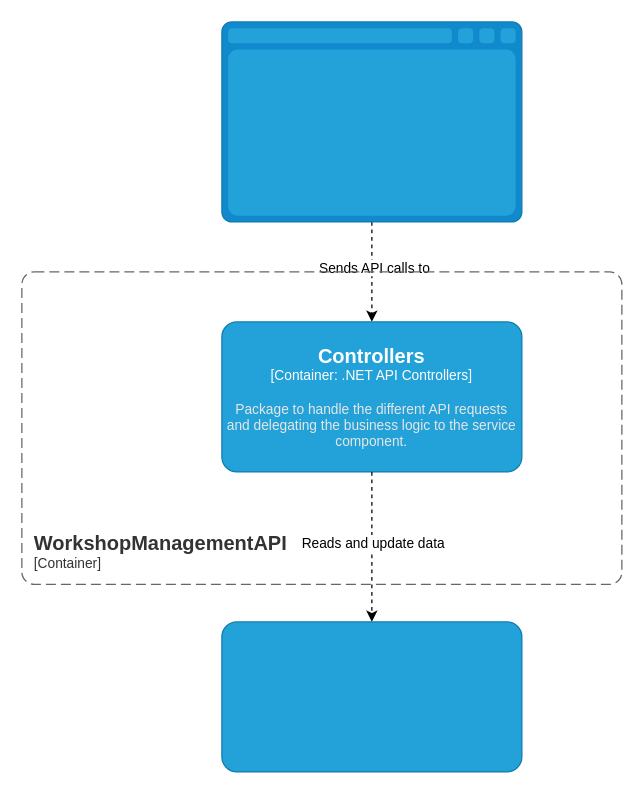
The diagram is 644 pixels wide and 794 high, and some of its shapes have lost their labels. The shapes that lost their labels are listed below. From the top down, each one's box as (x1, y1, x2, y2) in pixels, then its label:
(221, 21, 522, 222): WebApp [Container: Razor webapp] Pitstop Front-end
(221, 621, 522, 772): WorkshopManagement [Container: SQL Server 2019] Stores the data of the rentals.
